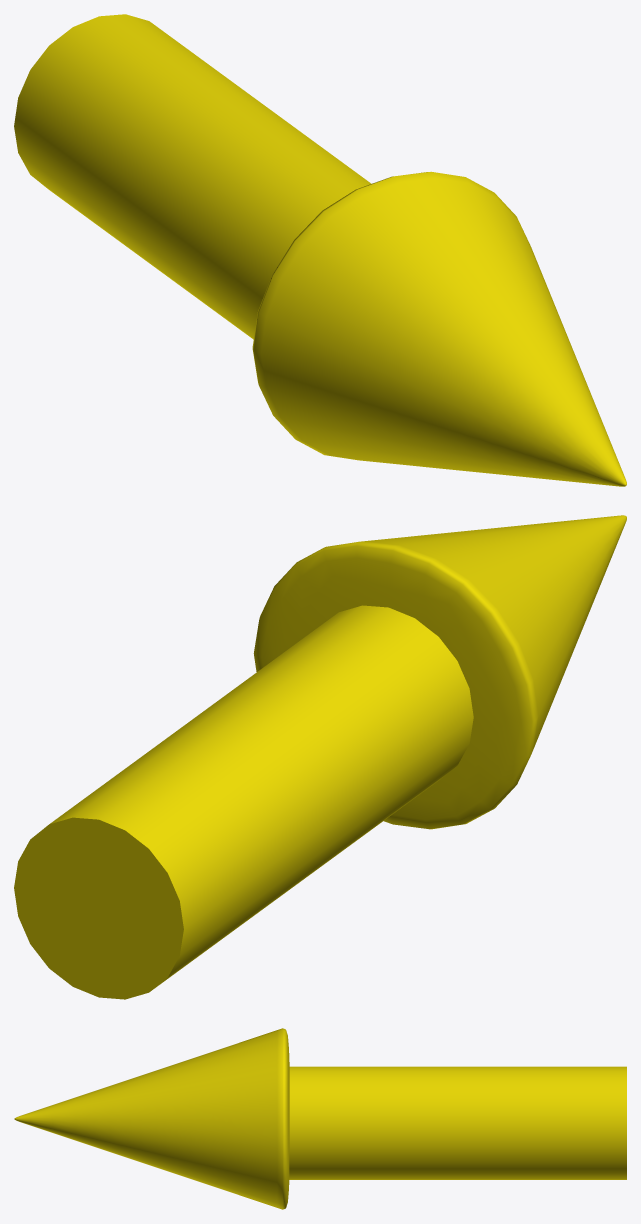
Rendered from arrow_straight.fbx.
The picture shows the model from 3 angles, top to bottom: view 1: azimuth 30°, elevation 25°; view 2: azimuth 150°, elevation 25°; view 3: azimuth 270°, elevation 25°; orthographic projection. The views are drawn at different scales.
Visible parts, largest first — view 1: pCone6; view 2: pCone6; view 3: pCone6.
Part boxes in pixels (box(x1,y1,x2,y2)): pCone6: box(14, 14, 626, 486); pCone6: box(14, 515, 626, 999); pCone6: box(14, 1028, 626, 1209).
Size of the model in its own units: 1.35 by 1.28 by 4.38.
